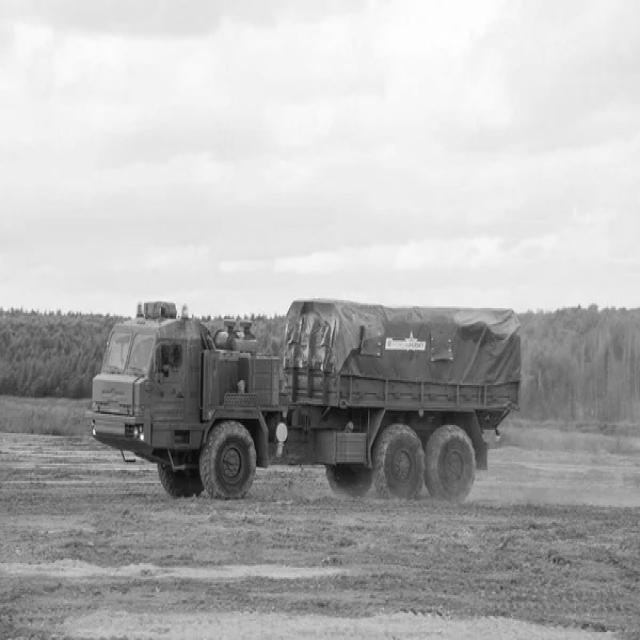Truck: (89, 302, 522, 499)
